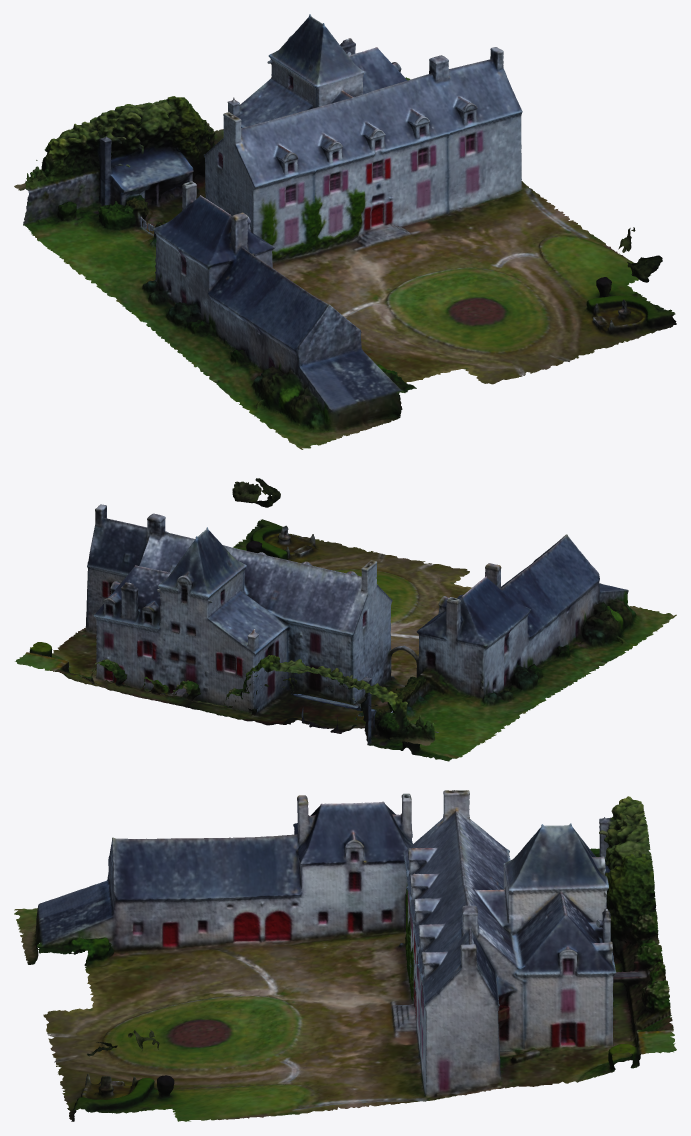
File: test_glb2.glb
3 renders of one model, top to bottom at view 1: azimuth 30°, elevation 25°; view 2: azimuth 150°, elevation 25°; view 3: azimuth 270°, elevation 25°, orthographic. The views are drawn at different scales.
Bounding box in the file's own units: 48.51 × 20.67 × 54.74.
1 material, 1 textured.
